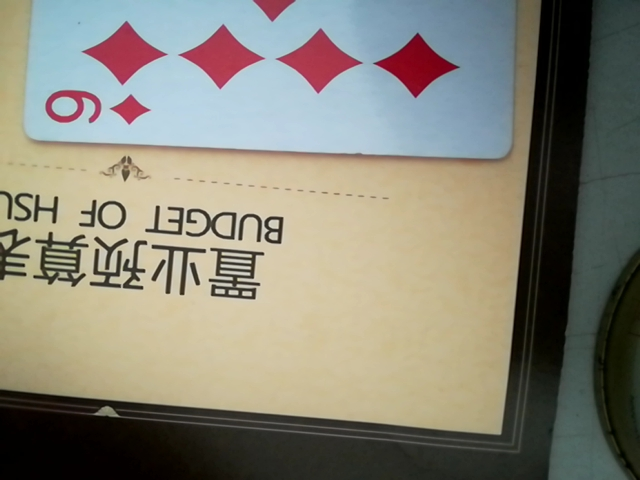fk 9: (10, 0, 526, 155)
